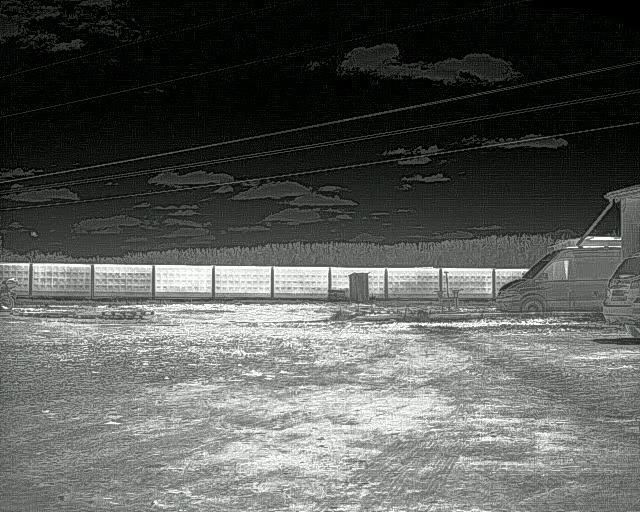ufo-thermal: (29, 229, 41, 240)
